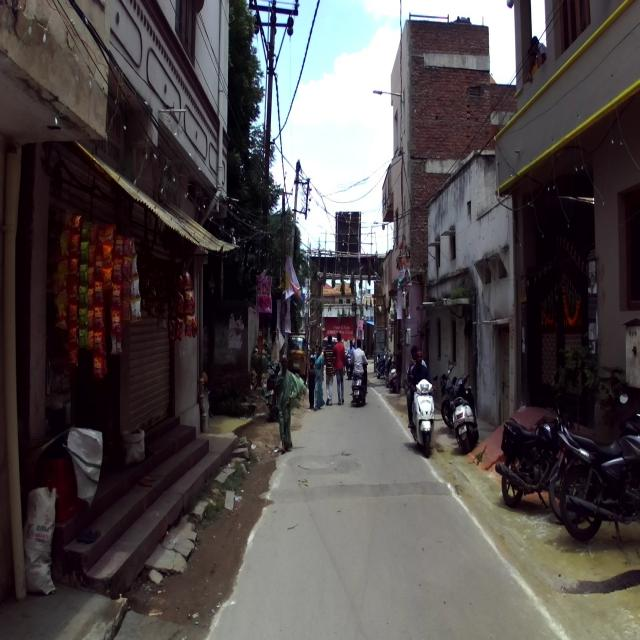motorcycle_Honda: (549, 390, 639, 549), (493, 368, 575, 508)
scooter: (407, 373, 437, 458), (451, 372, 479, 451), (351, 359, 368, 405)
